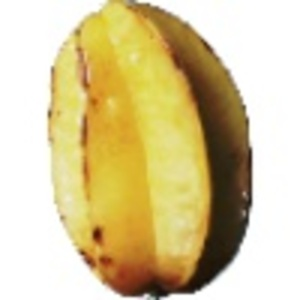carambola: (45, 1, 254, 300)
